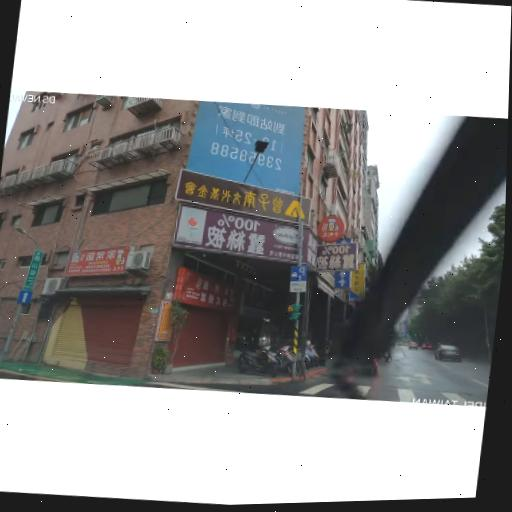Car: (430, 342, 466, 364)
